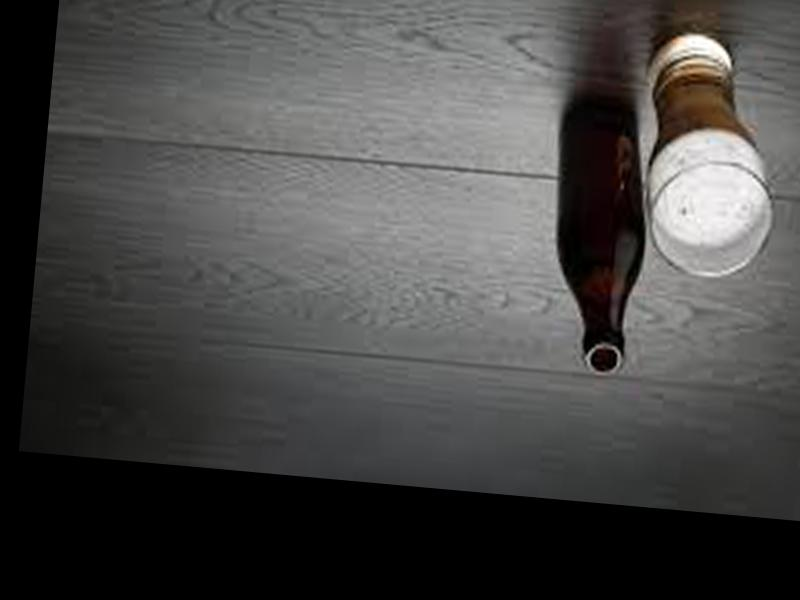Beer: (536, 84, 660, 380)
